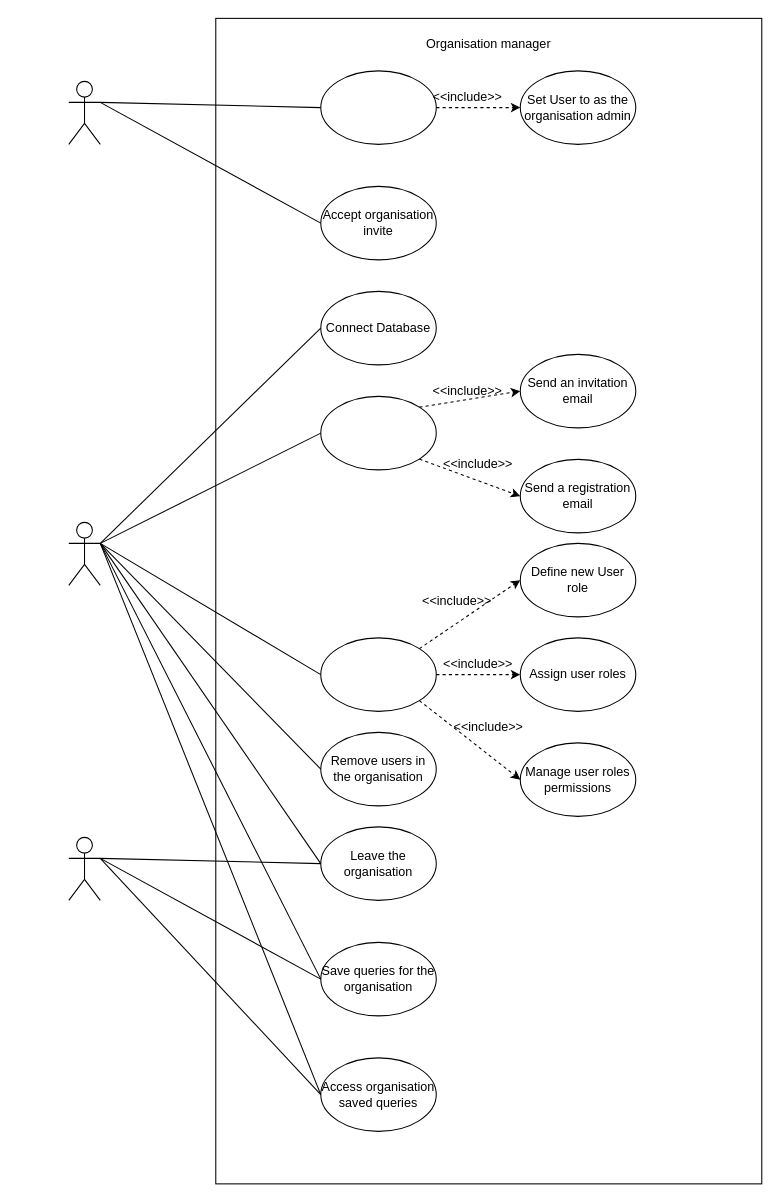
This 780x1202 diagram has some shape labels left out. The shapes that lost their labels are listed below. From the top down, each one's box as (x1, y1, x2, y2) in pixels, then its label:
(68, 80, 100, 144): User
(320, 70, 436, 144): Create organisation
(320, 395, 436, 470): Invite Users to the organisation
(68, 521, 100, 585): Organisation Admin
(320, 637, 436, 711): Manage User Roles
(68, 836, 100, 900): User in the organisation
